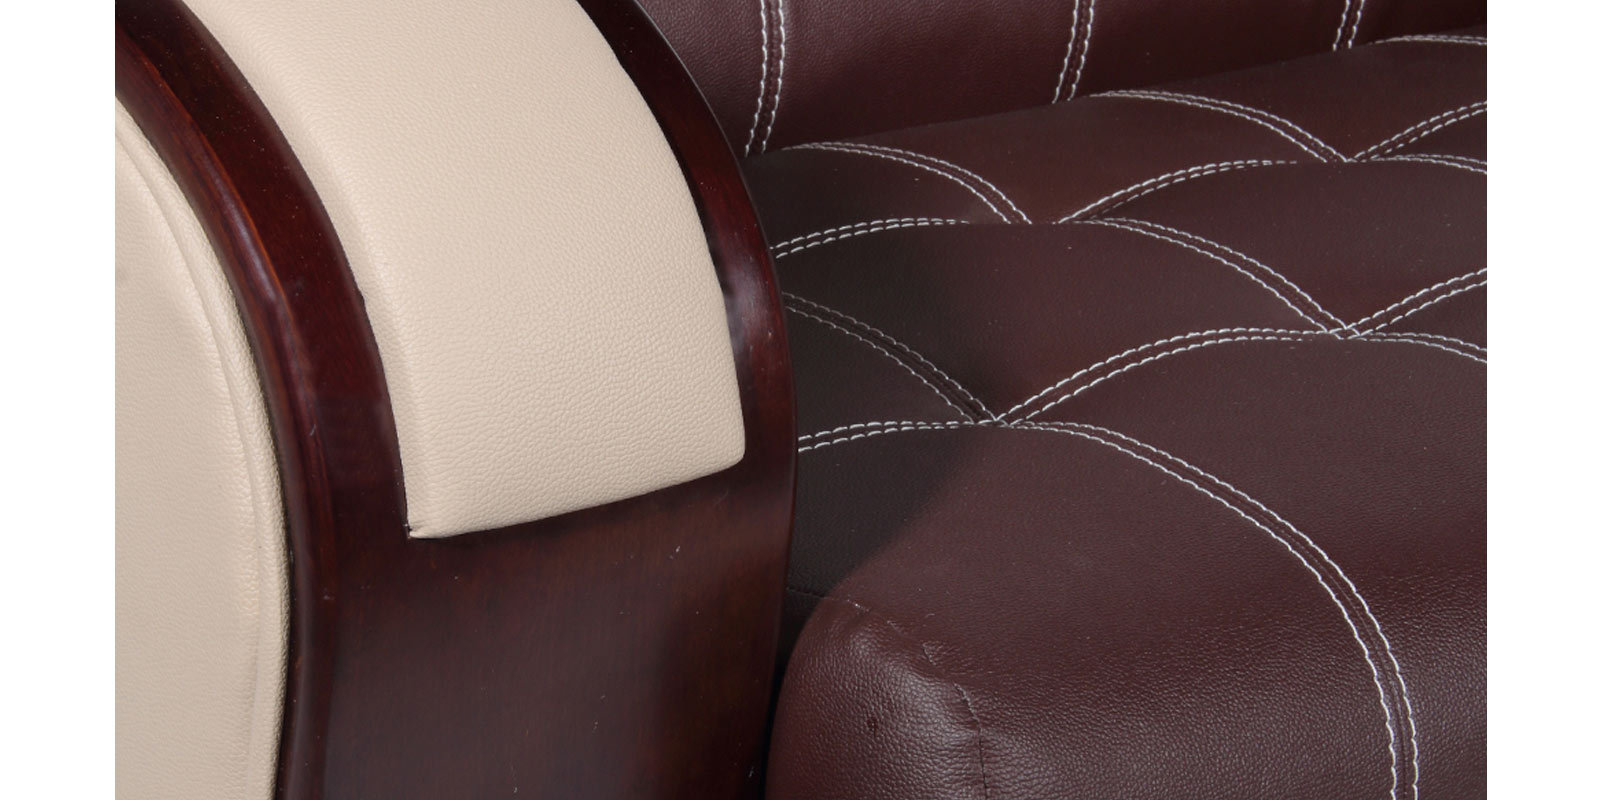Bella Three Seater Sofa in Brown Leatherette by Furniture Mind: (126, 41, 1443, 789)
